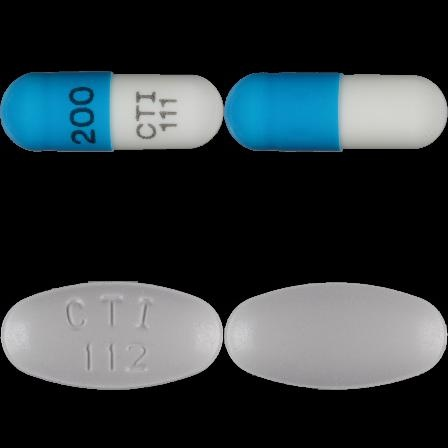61442-111: (0, 0, 224, 224)
